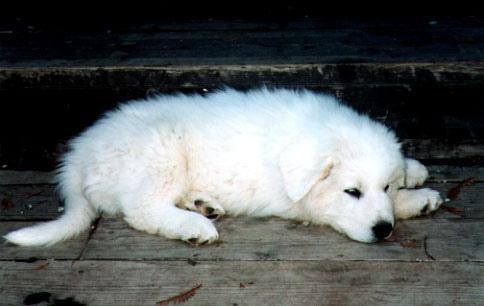Great_Pyrenees: (5, 84, 446, 251)
